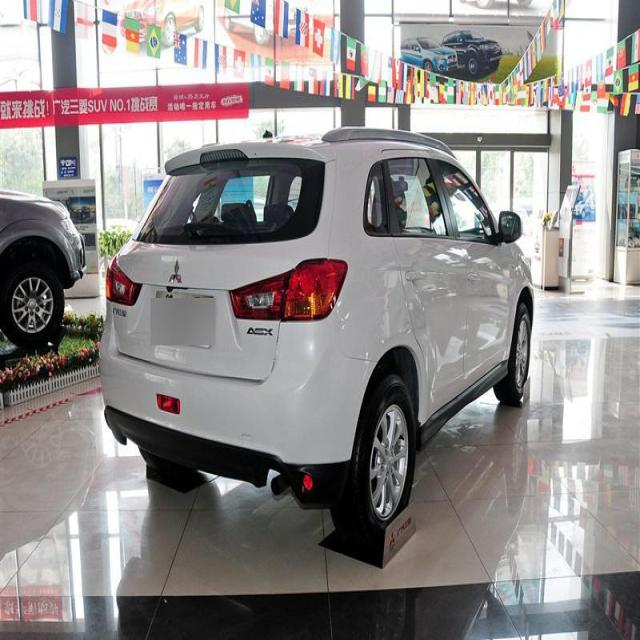back_glass: (134, 156, 328, 242)
back_left_side_light: (106, 253, 140, 315)
back_right_side_light: (230, 255, 352, 325)
door: (366, 162, 472, 398)
front_right_side_door: (431, 148, 509, 396)
front_right_side_mirror: (495, 207, 526, 246)
rear_bumper: (98, 326, 375, 488)
wheel: (346, 372, 416, 538), (503, 305, 532, 402)
